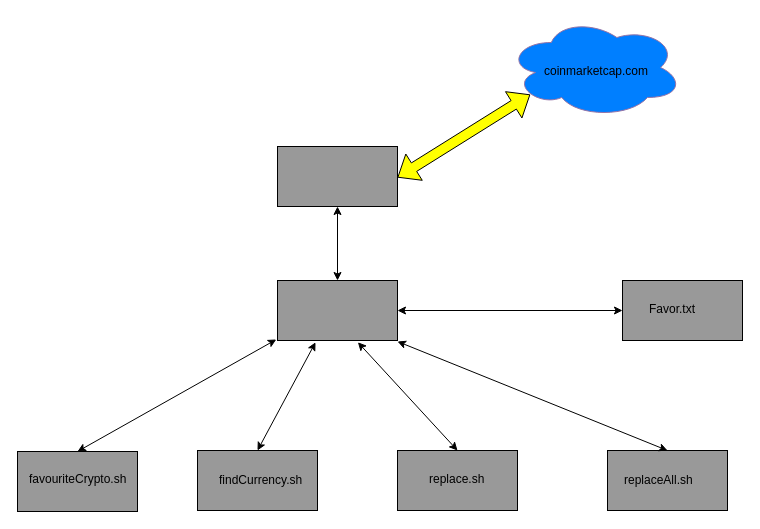
Image size: 760x529. Some labels were removed from this diagram. The shapes that lost their labels are listed below. From the top down, each one's box as (x1, y1, x2, y2) in pixels, then its label:
(276, 146, 398, 206): crFollower.sh
(276, 280, 398, 340): Menu.sh
